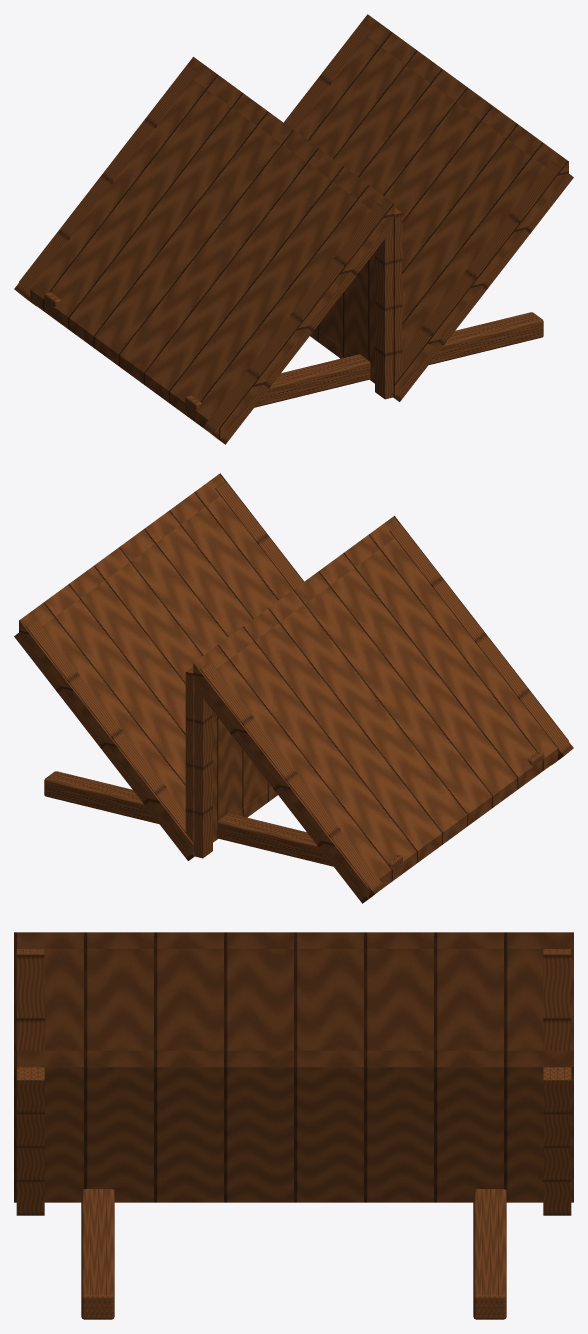
File: modular-survival-base-builder-roof-sawtooth-55df845d__24177.glb
3 renders of one model, top to bottom at view 1: azimuth 30°, elevation 25°; view 2: azimuth 150°, elevation 25°; view 3: azimuth 270°, elevation 25°, orthographic. The views are drawn at different scales.
Visible parts, largest first — view 1: roof-sawtooth; view 2: roof-sawtooth; view 3: roof-sawtooth.
Part boxes in pixels (<box>): roof-sawtooth: <box>14,14,573,444</box>; roof-sawtooth: <box>14,473,573,903</box>; roof-sawtooth: <box>14,932,573,1319</box>.
Bounding box in the file's own units: 2.07 × 1.1 × 2.
1 material, 1 textured.
